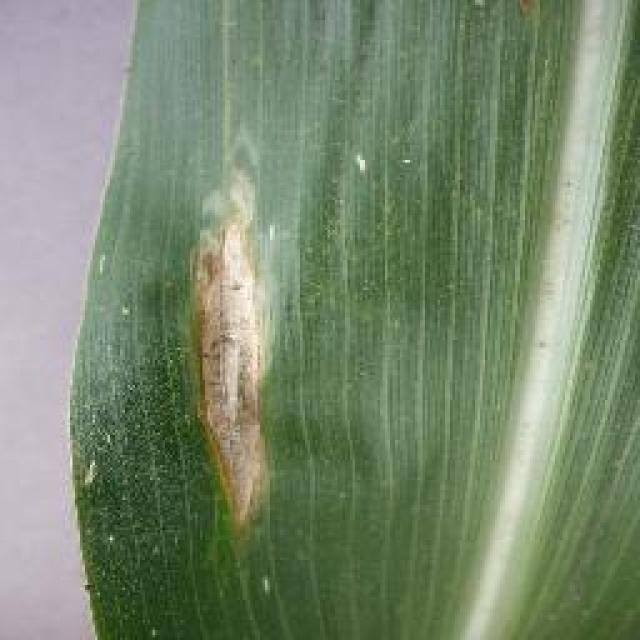Corn___Northern_Leaf_Blight: (55, 0, 630, 640)
